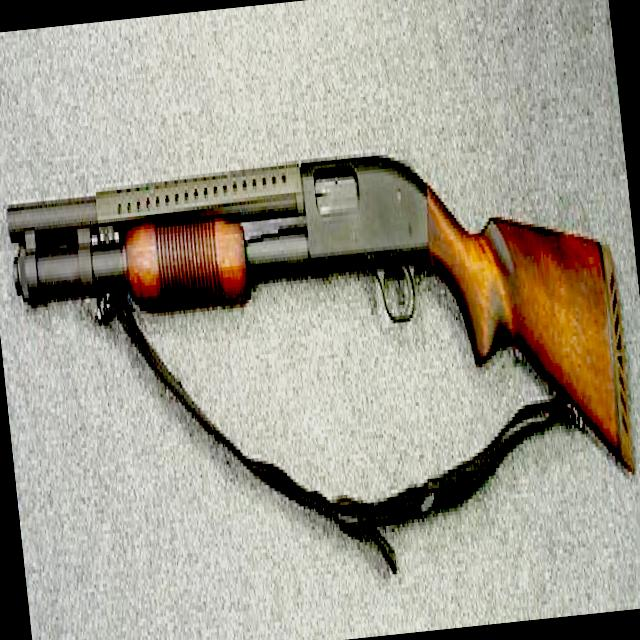shotgun: (0, 126, 630, 485)
